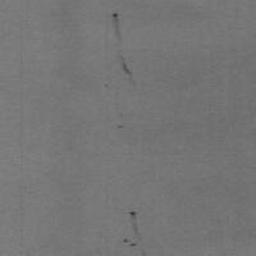Inclusion: (116, 50, 133, 77), (110, 12, 123, 44), (129, 210, 140, 236), (122, 237, 140, 248), (116, 123, 124, 131)
